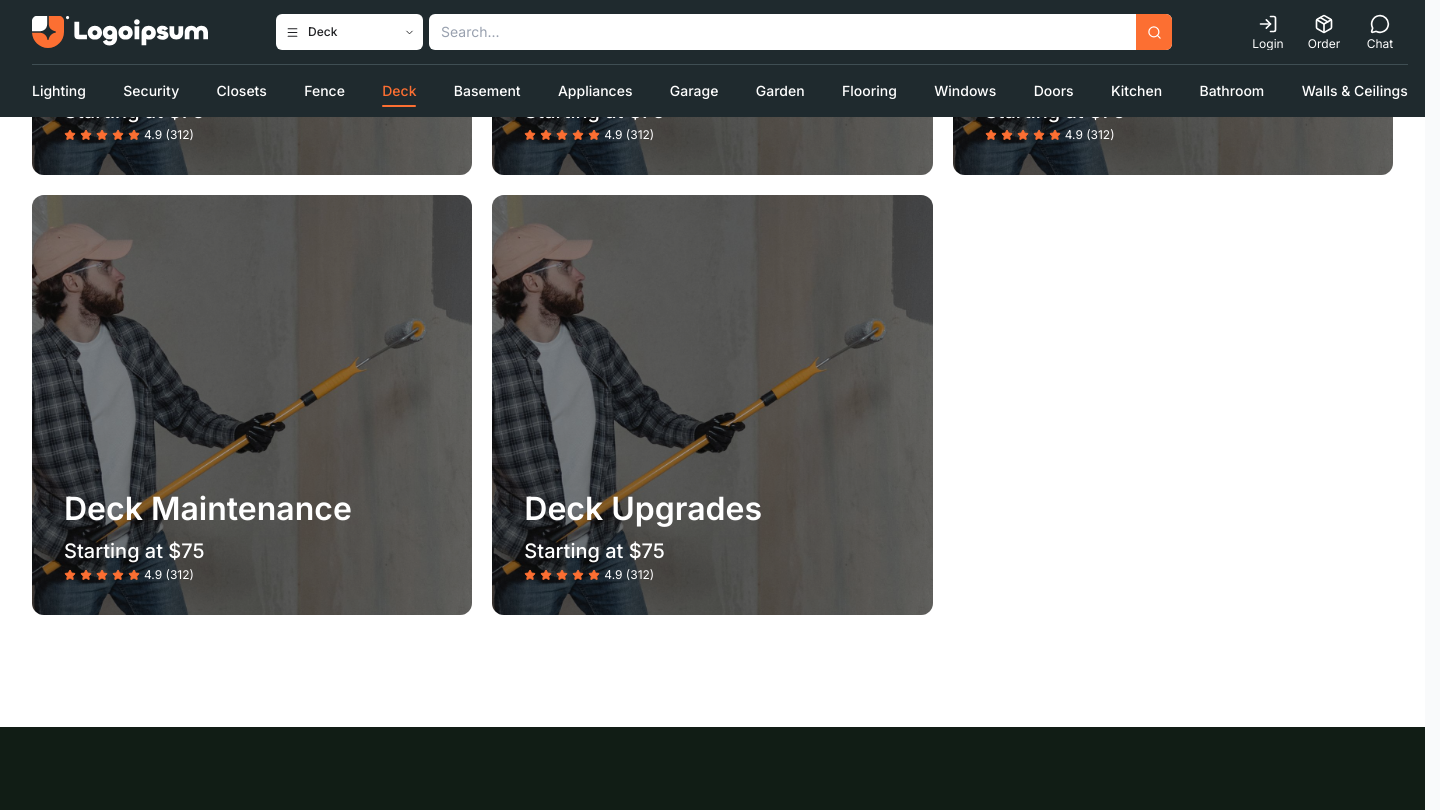
Scenario: Deck page › opens child services when a subcategory card is clicked
This screenshot has width=1440, height=810.
(page scrolled)
Click the button "Deck Upgrades Starting at $75 4.9 (312)" at (712, 405), box x1=492 y1=195 x2=933 y2=615
(page scrolled)
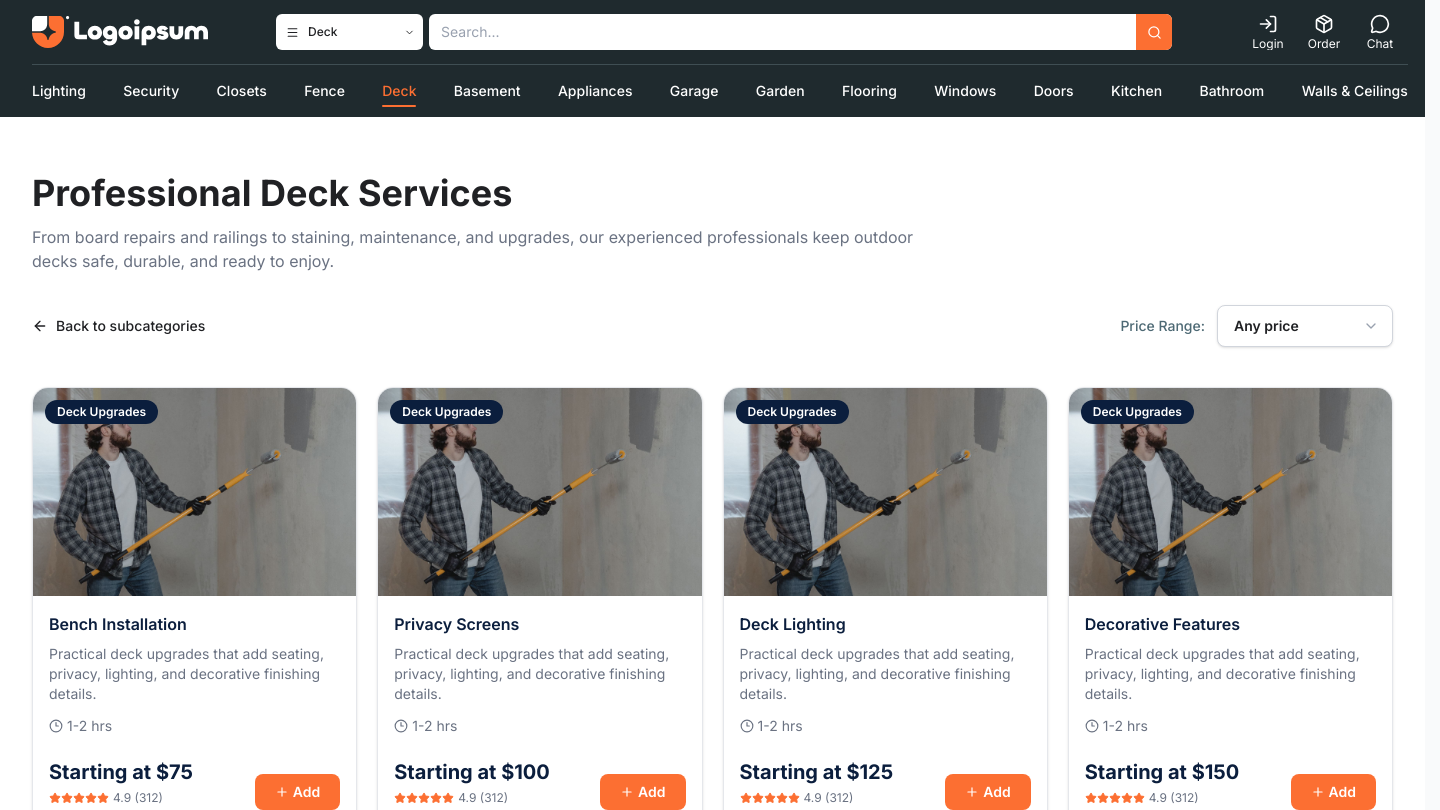
Expected: the heading "Privacy Screens" is shown, x1=394 y1=614 x2=519 y2=634
Expected: the button "Back to subcategories" is shown, x1=32 y1=316 x2=205 y2=336
